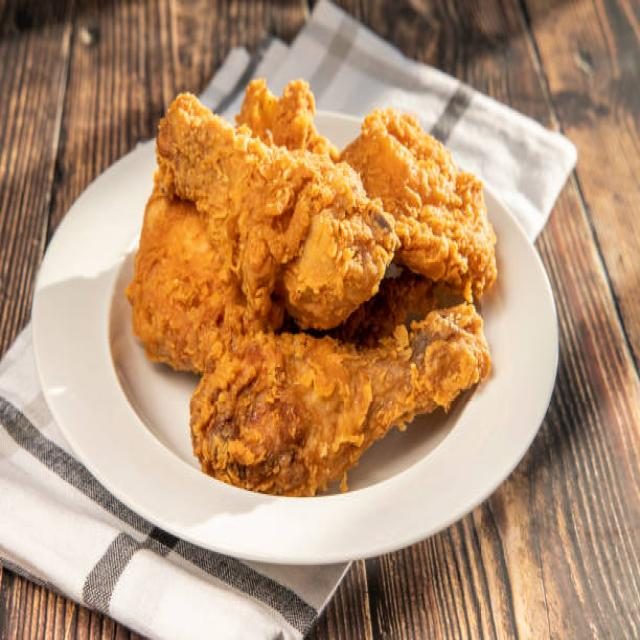Frango: (127, 75, 506, 499)
